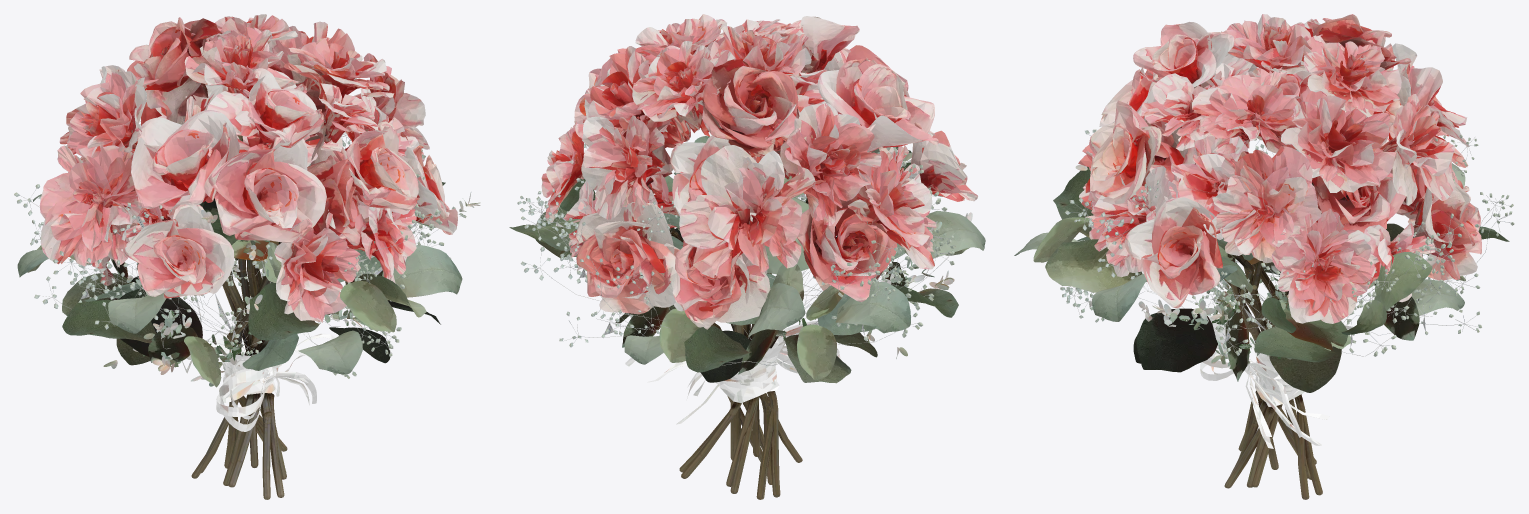
File: flower_bouquet.glb
3 views of the same model, side by side, from view 1: azimuth 30°, elevation 25°; view 2: azimuth 150°, elevation 25°; view 3: azimuth 270°, elevation 25° (orthographic). The views are drawn at different scales.
Visible parts, largest first — view 1: Leaves_002_Leaves6_0, Petal_010_Petals10_0, Petal_002_Petals2_0, Petal_012_Petals12_0, Petal_009_Petals8_0, Petal_005_Petals5_0, Petal_011_Petals11_0, Petal_004_Petals4_0, Stems_Stems_0, Petal_007_Petals7_0, Petal_008_Petals9_0, Ribbons_001_Ribbons1_0 (+7 smaller); view 2: Leaves_002_Leaves6_0, Petal_001_Petals1_0, Petal_003_Petals3_0, Petal_009_Petals8_0, Petal_002_Petals2_0, Petal_007_Petals7_0, Petal_012_Petals12_0, Petal_010_Petals10_0, Stems_Stems_0, Petal_011_Petals11_0, SmallPlants_004_SmallPlants2_0, Ribbons_001_Ribbons1_0 (+7 smaller); view 3: Petal_007_Petals7_0, Leaves_002_Leaves6_0, Petal_011_Petals11_0, Petal_006_Petals6_0, Petal_002_Petals2_0, Petal_013_Petals14_0, Petal_001_Petals1_0, Leaves_001_Leaves1_0, Petal_009_Petals8_0, Petal_010_Petals10_0, Stems_Stems_0, Petal_012_Petals12_0 (+7 smaller).
Boxes of the visible parts, x1,y1,x2,y2 form: Leaves_002_Leaves6_0: [17, 194, 462, 387]; Petal_010_Petals10_0: [39, 38, 394, 267]; Petal_002_Petals2_0: [67, 21, 362, 322]; Petal_012_Petals12_0: [131, 68, 323, 210]; Petal_009_Petals8_0: [91, 17, 369, 285]; Petal_005_Petals5_0: [208, 132, 326, 243]; Petal_011_Petals11_0: [121, 83, 419, 283]; Petal_004_Petals4_0: [124, 204, 234, 298]; Stems_Stems_0: [191, 135, 287, 499]; Petal_007_Petals7_0: [184, 14, 424, 162]; Petal_008_Petals9_0: [346, 121, 418, 214]; Ribbons_001_Ribbons1_0: [214, 307, 346, 431]; Leaves_002_Leaves6_0: [615, 146, 985, 383]; Petal_001_Petals1_0: [581, 115, 815, 278]; Petal_003_Petals3_0: [576, 202, 770, 329]; Petal_009_Petals8_0: [622, 59, 897, 302]; Petal_002_Petals2_0: [575, 46, 897, 225]; Petal_007_Petals7_0: [541, 26, 811, 222]; Petal_012_Petals12_0: [697, 16, 938, 151]; Petal_010_Petals10_0: [635, 14, 936, 269]; Stems_Stems_0: [670, 198, 808, 499]; Petal_011_Petals11_0: [563, 19, 921, 270]; SmallPlants_004_SmallPlants2_0: [517, 144, 956, 347]; Ribbons_001_Ribbons1_0: [625, 321, 841, 424]; Petal_007_Petals7_0: [1220, 14, 1401, 323]; Leaves_002_Leaves6_0: [1014, 163, 1509, 392]; Petal_011_Petals11_0: [1088, 58, 1435, 302]; Petal_006_Petals6_0: [1209, 68, 1321, 263]; Petal_002_Petals2_0: [1078, 18, 1396, 239]; Petal_013_Petals14_0: [1124, 100, 1402, 308]; Petal_001_Petals1_0: [1380, 43, 1469, 205]; Leaves_001_Leaves1_0: [1217, 237, 1432, 362]; Petal_009_Petals8_0: [1132, 14, 1411, 233]; Petal_010_Petals10_0: [1192, 68, 1301, 153]; Stems_Stems_0: [1224, 182, 1376, 499]; Petal_012_Petals12_0: [1133, 21, 1312, 102].
Size of the model in its own units: 0.3586 by 0.3863 by 0.3838.
Materials: 20 (20 with a texture image).
